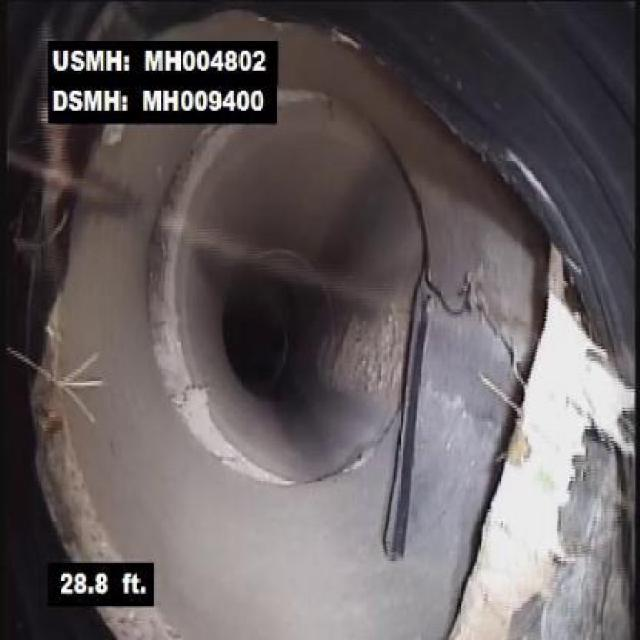Joint offset: (37, 298, 117, 568), (143, 249, 219, 463), (154, 126, 234, 245), (222, 437, 300, 488)
